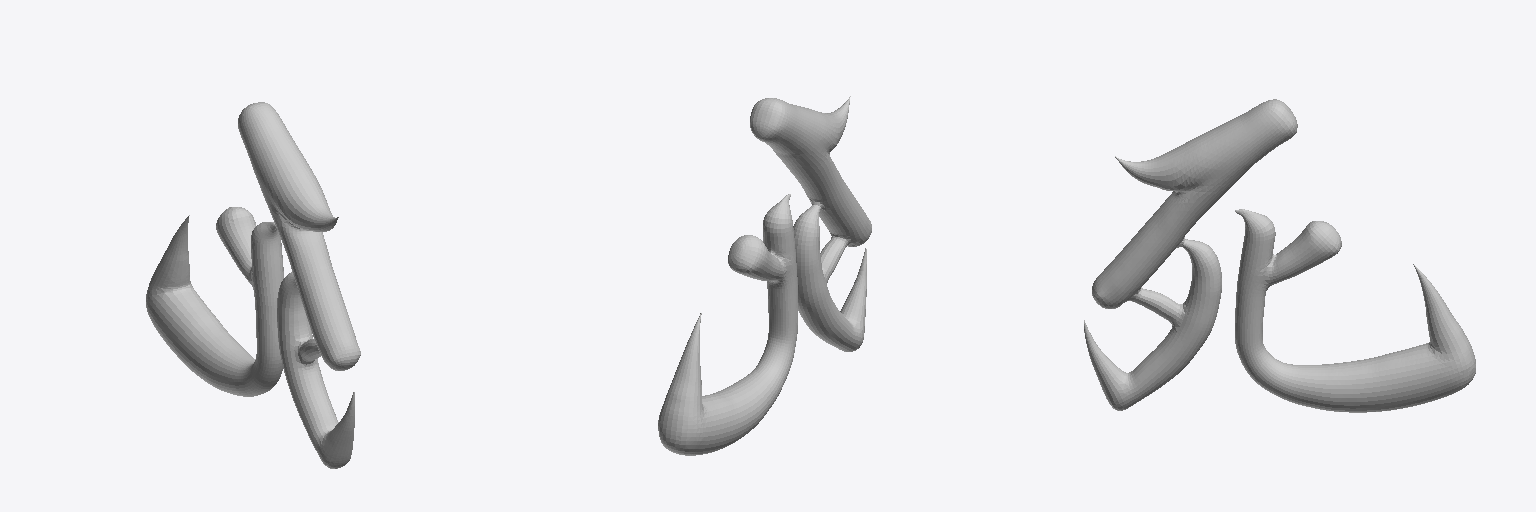
3 renders of one model, left to right at view 1: azimuth 30°, elevation 25°; view 2: azimuth 150°, elevation 25°; view 3: azimuth 270°, elevation 25°, orthographic.
Visible parts, largest first — view 1: tripo_node_cd29aa6c-2ae7-4075-9123-0eafd1a4205a; view 2: tripo_node_cd29aa6c-2ae7-4075-9123-0eafd1a4205a; view 3: tripo_node_cd29aa6c-2ae7-4075-9123-0eafd1a4205a.
Part boxes in pixels (left/top/right/bottom): tripo_node_cd29aa6c-2ae7-4075-9123-0eafd1a4205a: left=146, top=102, right=360, bottom=468; tripo_node_cd29aa6c-2ae7-4075-9123-0eafd1a4205a: left=658, top=96, right=871, bottom=455; tripo_node_cd29aa6c-2ae7-4075-9123-0eafd1a4205a: left=1084, top=99, right=1475, bottom=412.
Size of the model in its own units: 0.1338 by 0.8652 by 0.9994.